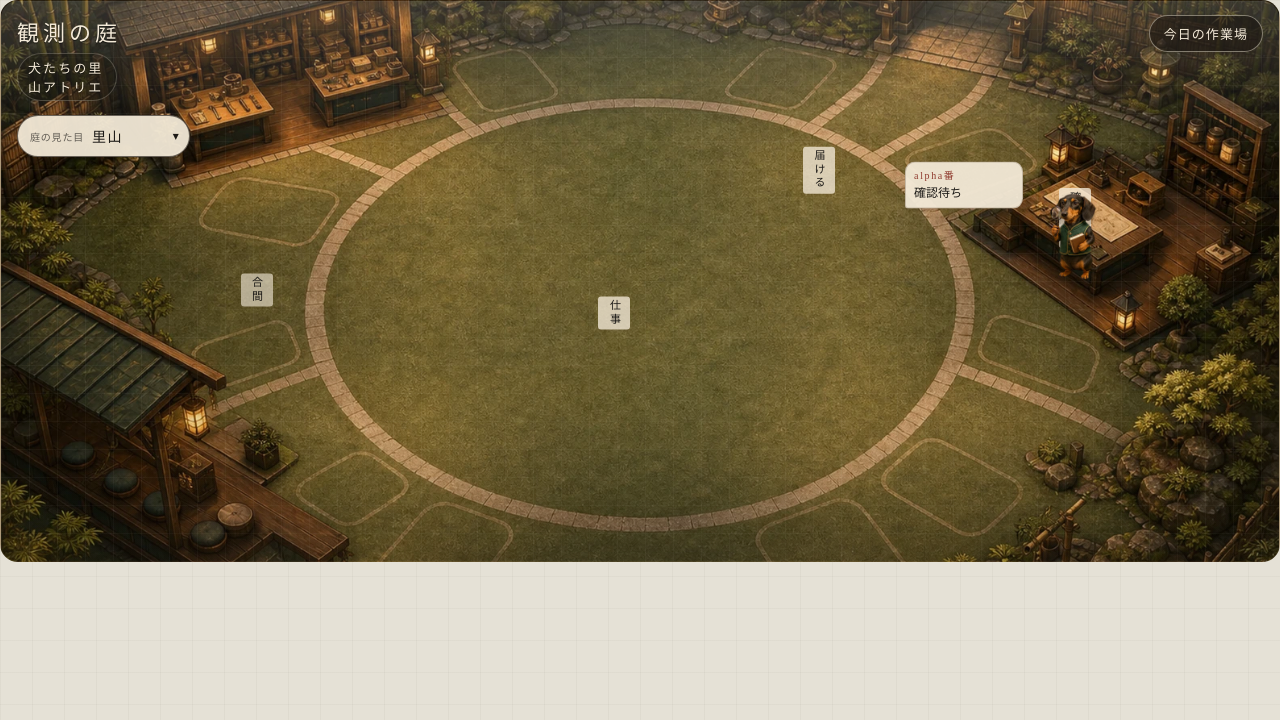
Test: ObserverGarden › names the waiting place in picture words
The image size is (1280, 720).
Click the 4th button.
click(1079, 226)  # box [1019, 166, 1139, 286]
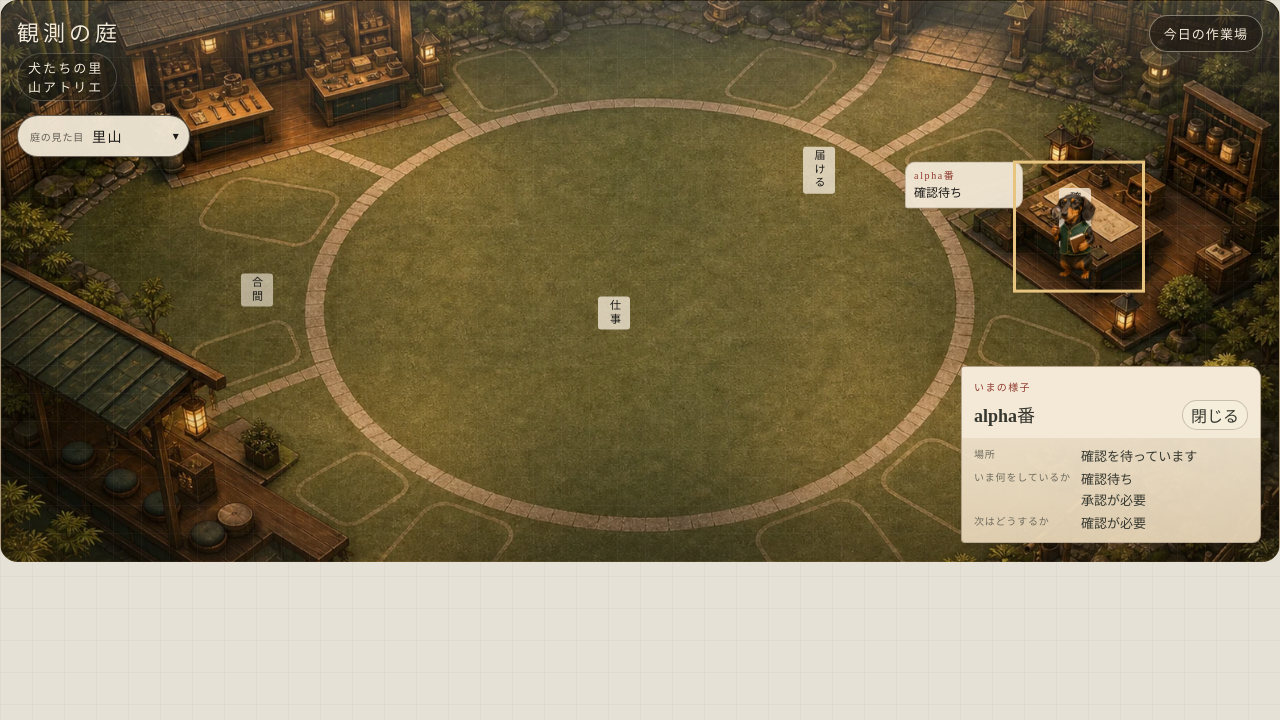
Check: the element with test id "garden-inspect" shows "確認を待っています", box [1081, 449, 1197, 464]
Check: the element with test id "garden-inspect" shows "確認待ち", box [1081, 472, 1133, 487]
Check: the element with test id "garden-inspect" shows "承認が必要", box [1081, 493, 1146, 508]
